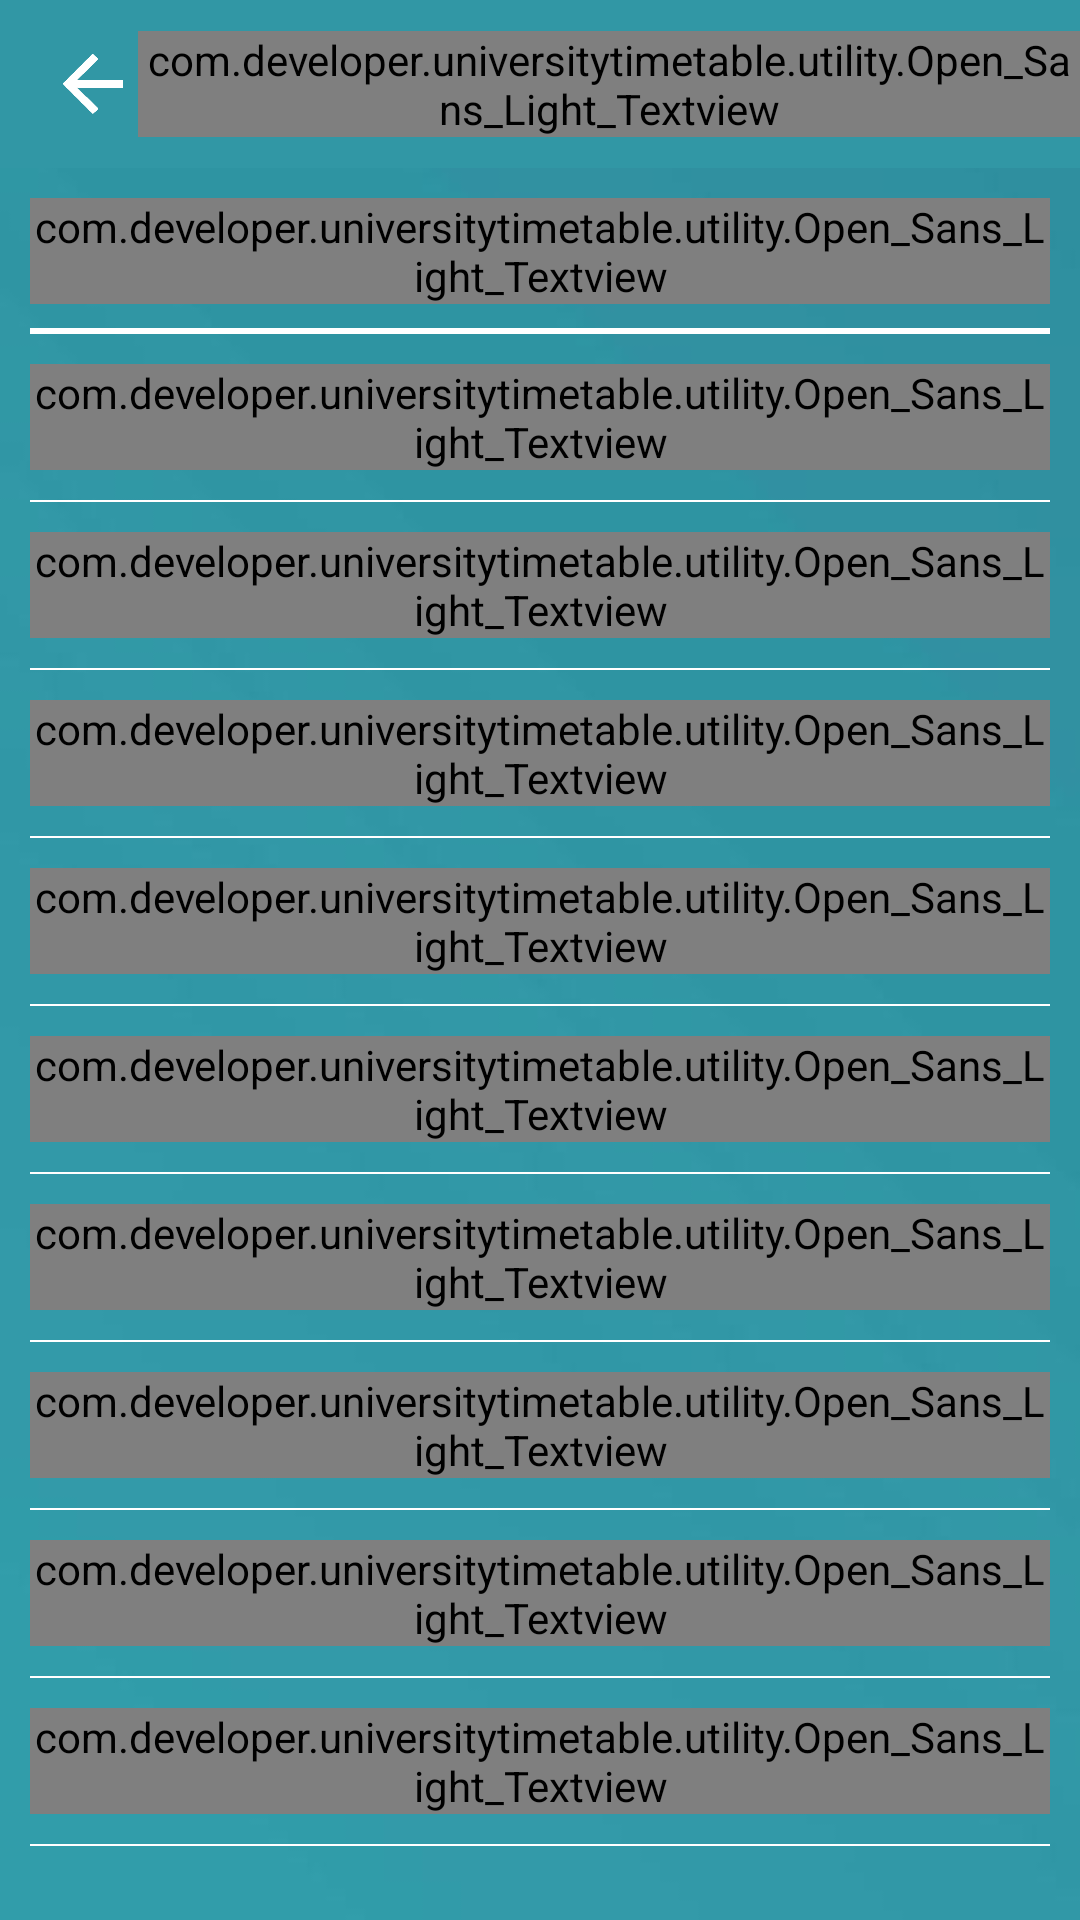

Locate icon controls on the screen. Image size 1080px×1920px, boxes as (x1, y1, x2, y2).
back: (63, 54, 123, 114)
